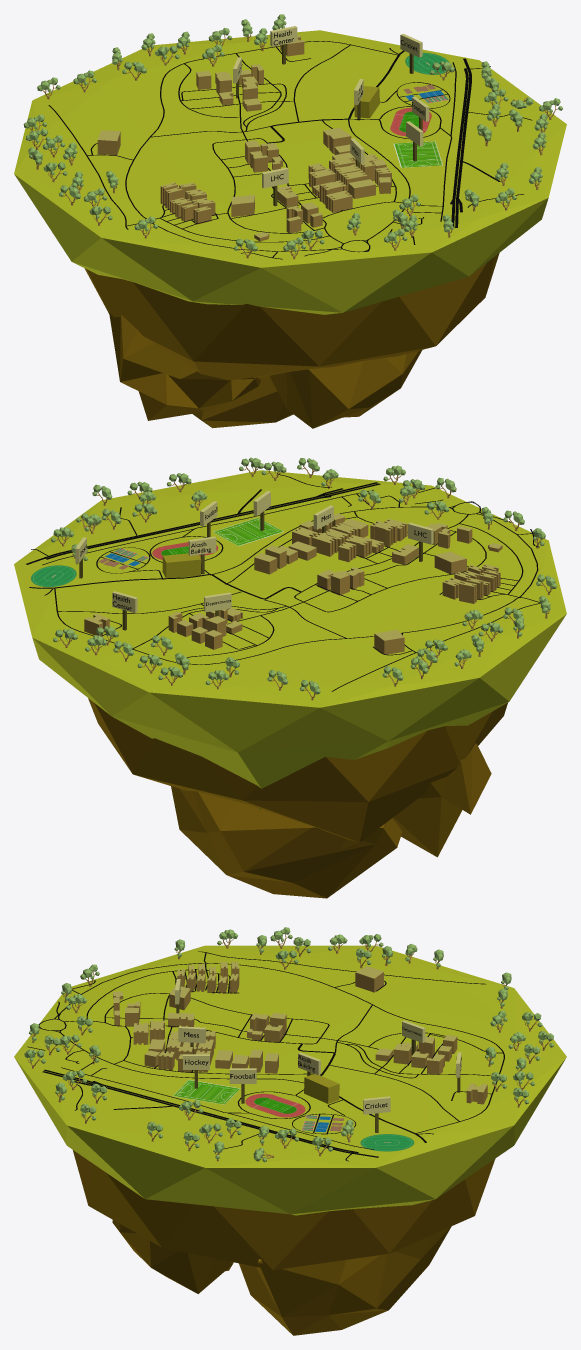
The model's file is clgmodel10.glb.
The picture shows the model from 3 angles, top to bottom: view 1: azimuth 30°, elevation 25°; view 2: azimuth 150°, elevation 25°; view 3: azimuth 270°, elevation 25°; orthographic projection. The views are drawn at different scales.
Parts seen in each view (by area): view 1: Icosphere.003, Icosphere.004, map.osm_buildings, Icosphere.006, Icosphere.005, map.osm_roads_service, Icosphere.008, map.osm_roads_trunk, hockey-preview, 4-removebg-preview, cricket-preview, Cube.003; view 2: Icosphere.003, Icosphere.004, Icosphere.008, map.osm_buildings, Icosphere.006, map.osm_roads_service, map.osm_roads_trunk, hockey-preview, Cube.003, cricket-preview; view 3: Icosphere.003, Icosphere.004, Icosphere.008, map.osm_buildings, map.osm_roads_service, Icosphere.005, hockey-preview, map.osm_roads_trunk, 4-removebg-preview, Cube.003, cricket-preview.
Boxes of the visible parts, x1,y1,x2,y2 form: Icosphere.003: (14, 30, 566, 314); Icosphere.004: (84, 253, 499, 381); map.osm_buildings: (97, 34, 391, 241); Icosphere.006: (109, 312, 260, 420); Icosphere.005: (269, 350, 422, 428); map.osm_roads_service: (48, 41, 532, 259); Icosphere.008: (192, 380, 293, 428); map.osm_roads_trunk: (450, 58, 471, 227); hockey-preview: (393, 141, 442, 167); 4-removebg-preview: (390, 107, 431, 136); cricket-preview: (405, 52, 449, 74); Cube.003: (354, 86, 379, 118); Icosphere.003: (14, 470, 566, 809); Icosphere.004: (88, 698, 507, 849); Icosphere.008: (171, 786, 402, 898); map.osm_buildings: (84, 513, 502, 654); Icosphere.006: (392, 743, 491, 857); map.osm_roads_service: (31, 473, 540, 691); map.osm_roads_trunk: (26, 482, 380, 564); hockey-preview: (213, 517, 283, 546); Cube.003: (162, 553, 201, 578); cricket-preview: (31, 565, 76, 586); Icosphere.003: (14, 945, 566, 1215); Icosphere.004: (73, 1150, 495, 1270); Icosphere.008: (239, 1226, 451, 1335); map.osm_buildings: (113, 961, 487, 1104); map.osm_roads_service: (27, 951, 504, 1161); Icosphere.005: (112, 1220, 233, 1293); hockey-preview: (173, 1080, 240, 1104); map.osm_roads_trunk: (42, 1069, 378, 1157); 4-removebg-preview: (245, 1093, 305, 1117); Cube.003: (304, 1074, 339, 1103); cricket-preview: (360, 1134, 414, 1151).
Size of the model in its own units: 132 by 86.8 by 138.
Materials: 25 (6 with a texture image).
